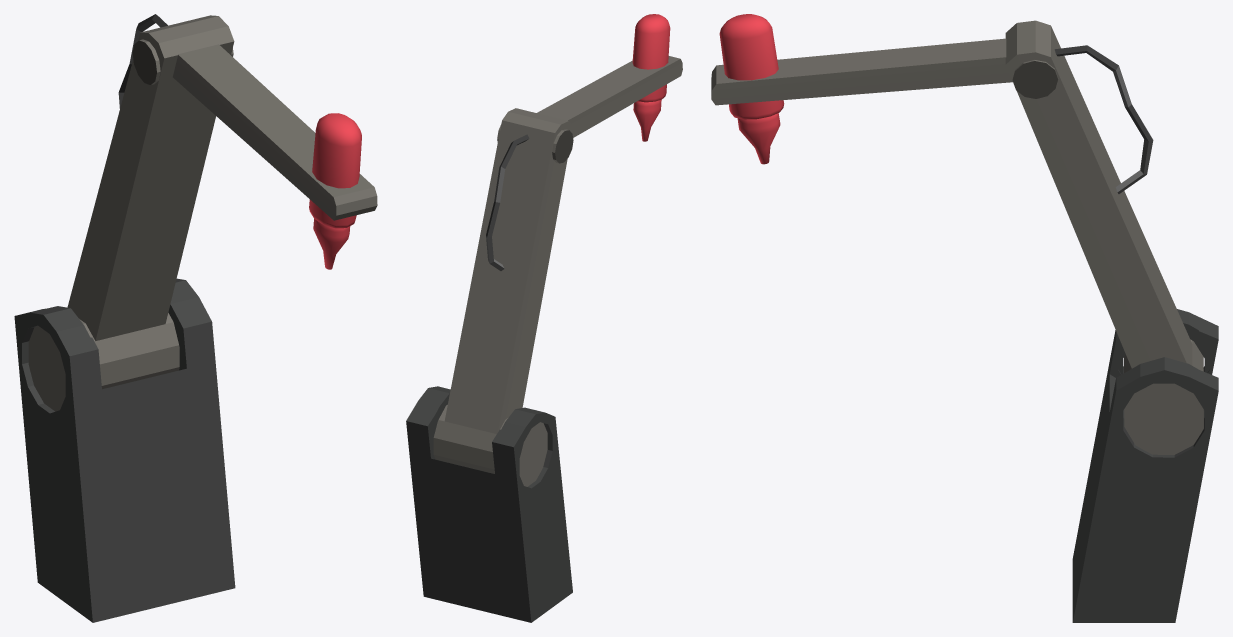
Rendered from sosmakinesi (1).fbx.
3 views of the same model, side by side, from view 1: azimuth 30°, elevation 25°; view 2: azimuth 150°, elevation 25°; view 3: azimuth 270°, elevation 25° (orthographic). The views are drawn at different scales.
Visible parts, largest first — view 1: Cube, sdfsdfsd, sdfsdfsd.001, Cylinder.003, Sos; view 2: Cube, sdfsdfsd, sdfsdfsd.001, Cylinder.003, Sos; view 3: Cube, sdfsdfsd, sdfsdfsd.001, Cylinder.003, Sos.
Boxes of the visible parts, <box> form: Cube: <box>14,278,235,622</box>; sdfsdfsd: <box>28,15,234,411</box>; sdfsdfsd.001: <box>132,39,377,220</box>; Cylinder.003: <box>309,113,361,269</box>; Sos: <box>118,14,167,108</box>; Cube: <box>406,386,572,622</box>; sdfsdfsd: <box>433,108,573,486</box>; sdfsdfsd.001: <box>497,56,682,163</box>; Cylinder.003: <box>632,14,670,141</box>; Sos: <box>486,134,529,270</box>; Cube: <box>1072,309,1218,622</box>; sdfsdfsd: <box>1005,20,1203,454</box>; sdfsdfsd.001: <box>711,38,1058,105</box>; Cylinder.003: <box>719,14,784,164</box>; Sos: <box>1054,45,1153,193</box>.
Size of the model in its own units: 137 by 566 by 454.
